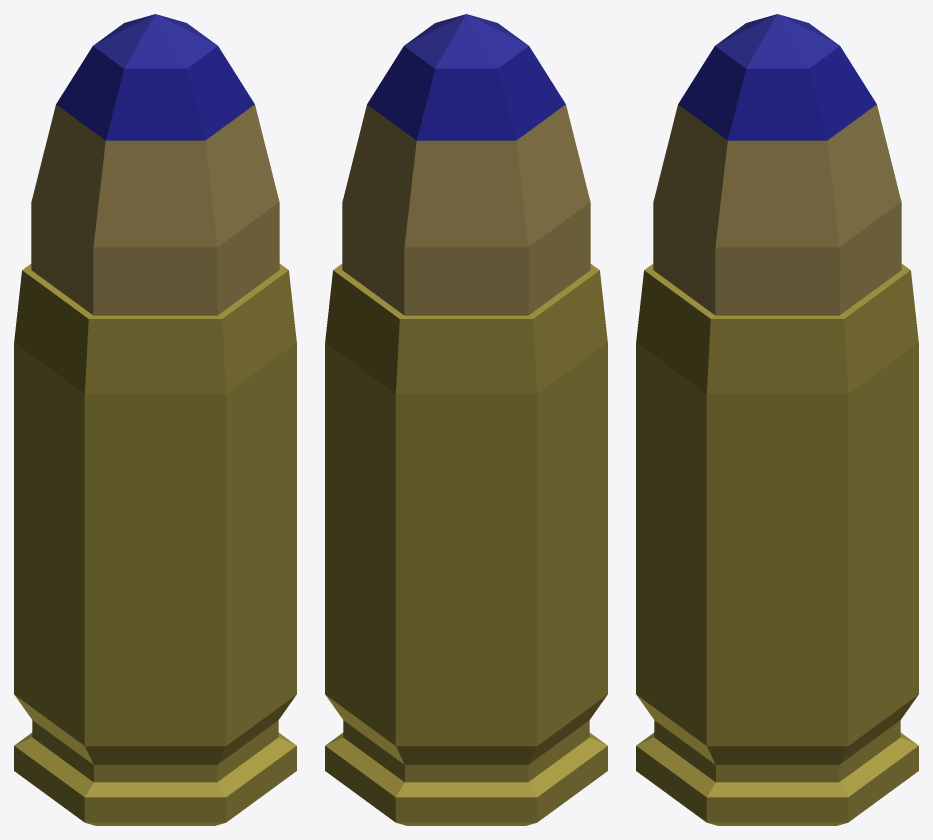
The model's file is MW1_Ammunition_9mm_02.fbx.
3 renders of one model, left to right at view 1: azimuth 30°, elevation 25°; view 2: azimuth 150°, elevation 25°; view 3: azimuth 270°, elevation 25°, orthographic.
Parts seen in each view (by area): view 1: Ammunition_9mm_02; view 2: Ammunition_9mm_02; view 3: Ammunition_9mm_02.
Part boxes in pixels (bbox=[...]): Ammunition_9mm_02: bbox=[14, 14, 296, 825]; Ammunition_9mm_02: bbox=[325, 14, 607, 825]; Ammunition_9mm_02: bbox=[636, 14, 918, 825].
Bounding box in the file's own units: 0.866 × 3 × 1.
